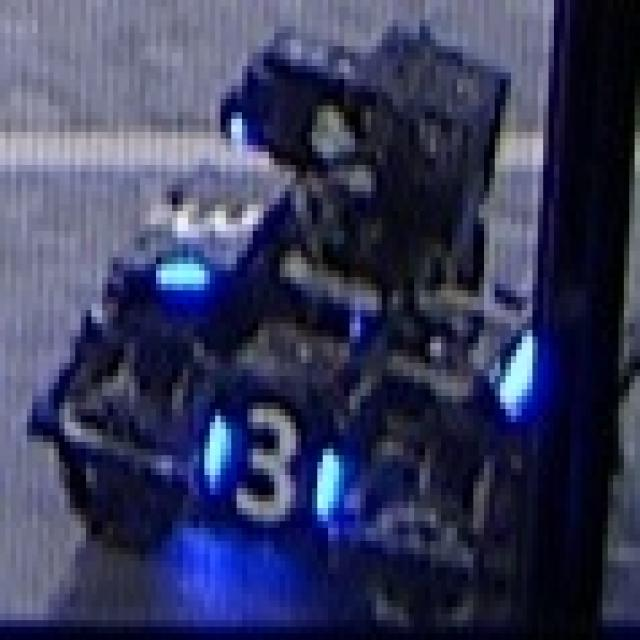B3: (199, 396, 344, 515)
